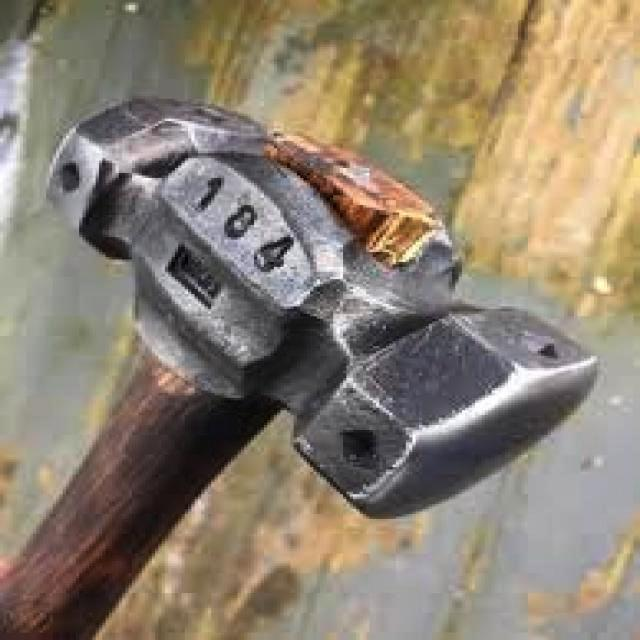hammer: (0, 89, 607, 640)
